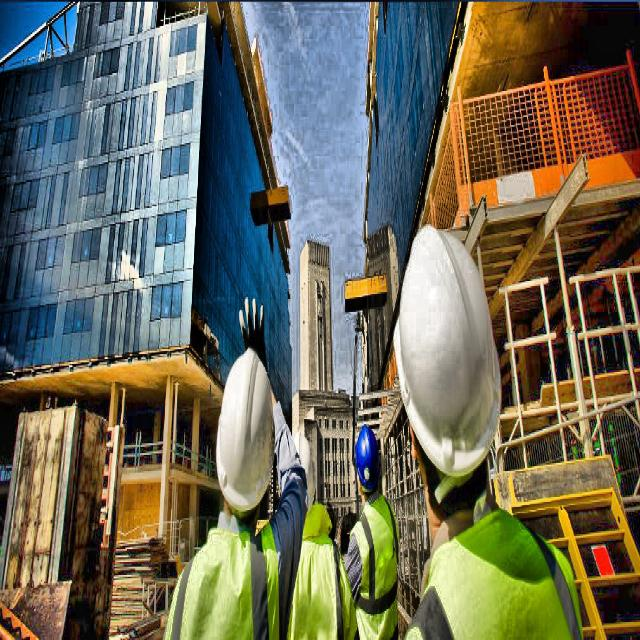safety_helmet: (391, 217, 511, 482), (211, 349, 281, 517), (290, 420, 322, 508), (350, 428, 382, 498)
safety_jacket: (413, 511, 576, 640), (166, 523, 287, 640), (270, 500, 354, 640), (347, 492, 406, 640)
